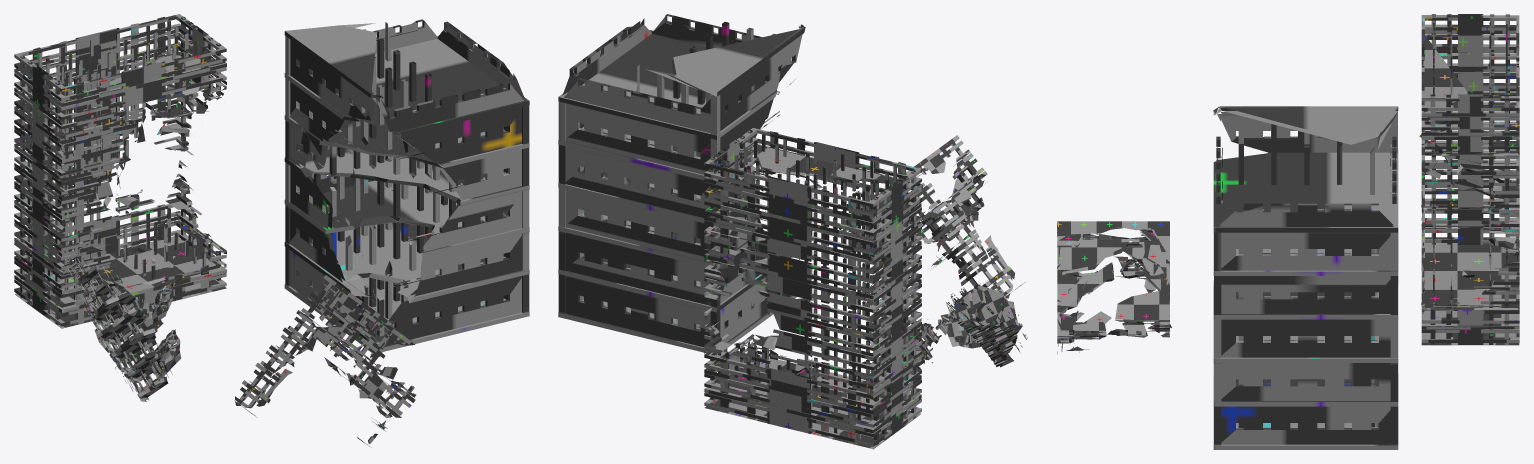
The model's file is ruins11.glb.
3 views of the same model, side by side, from view 1: azimuth 30°, elevation 25°; view 2: azimuth 150°, elevation 25°; view 3: azimuth 270°, elevation 25° (orthographic). The views are drawn at different scales.
Visible parts, largest first — view 1: Cube.007, Cube.002, Cube.047, Plane.002; view 2: Cube.007, Cube.002, Cube.047, Plane.002; view 3: Cube.007, Cube.002, Cube.047.
Boxes of the visible parts, x1,y1,x2,y2 form: Cube.007: (284, 19, 529, 351); Cube.002: (14, 14, 226, 328); Cube.047: (234, 275, 416, 447); Plane.002: (63, 249, 181, 401); Cube.007: (558, 14, 805, 355); Cube.002: (704, 128, 921, 449); Cube.047: (838, 135, 1025, 298); Plane.002: (870, 284, 1027, 376); Cube.007: (1213, 106, 1398, 449); Cube.002: (1419, 14, 1519, 345); Cube.047: (1057, 221, 1171, 354).
Bounding box in the file's own units: 327 × 220 × 320.
Materials: 1 (1 with a texture image).
